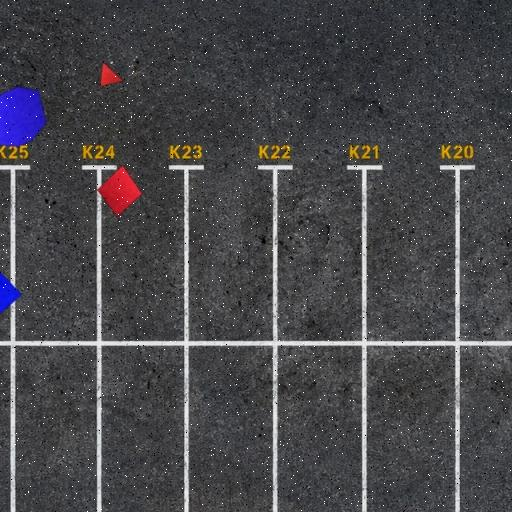RED_SQUARE: (97, 164, 142, 218)
